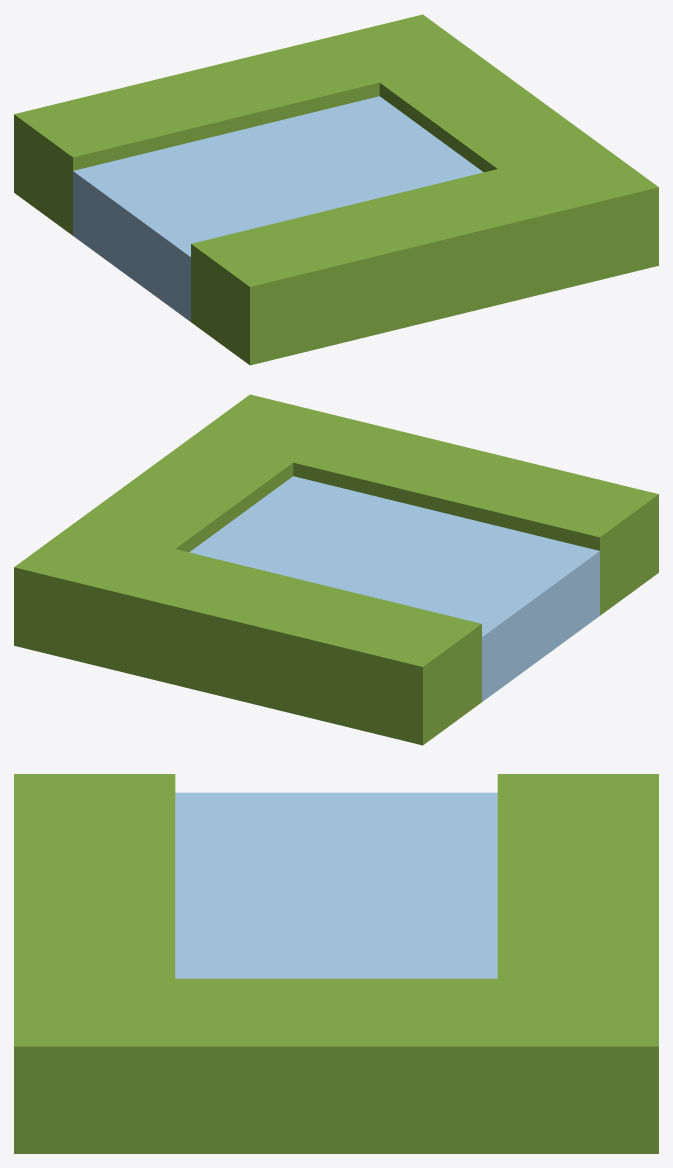
Rendered from tile143.fbx.
The picture shows the model from 3 angles, top to bottom: view 1: azimuth 30°, elevation 25°; view 2: azimuth 150°, elevation 25°; view 3: azimuth 270°, elevation 25°; orthographic projection. The views are drawn at different scales.
Parts seen in each view (by area): view 1: tile143; view 2: tile143; view 3: tile143.
Boxes of the visible parts, x1,y1,x2,y2 form: tile143: (14, 14, 658, 365); tile143: (14, 394, 658, 745); tile143: (14, 774, 658, 1153).
Bounding box in the file's own units: 10 × 1.83 × 10.
